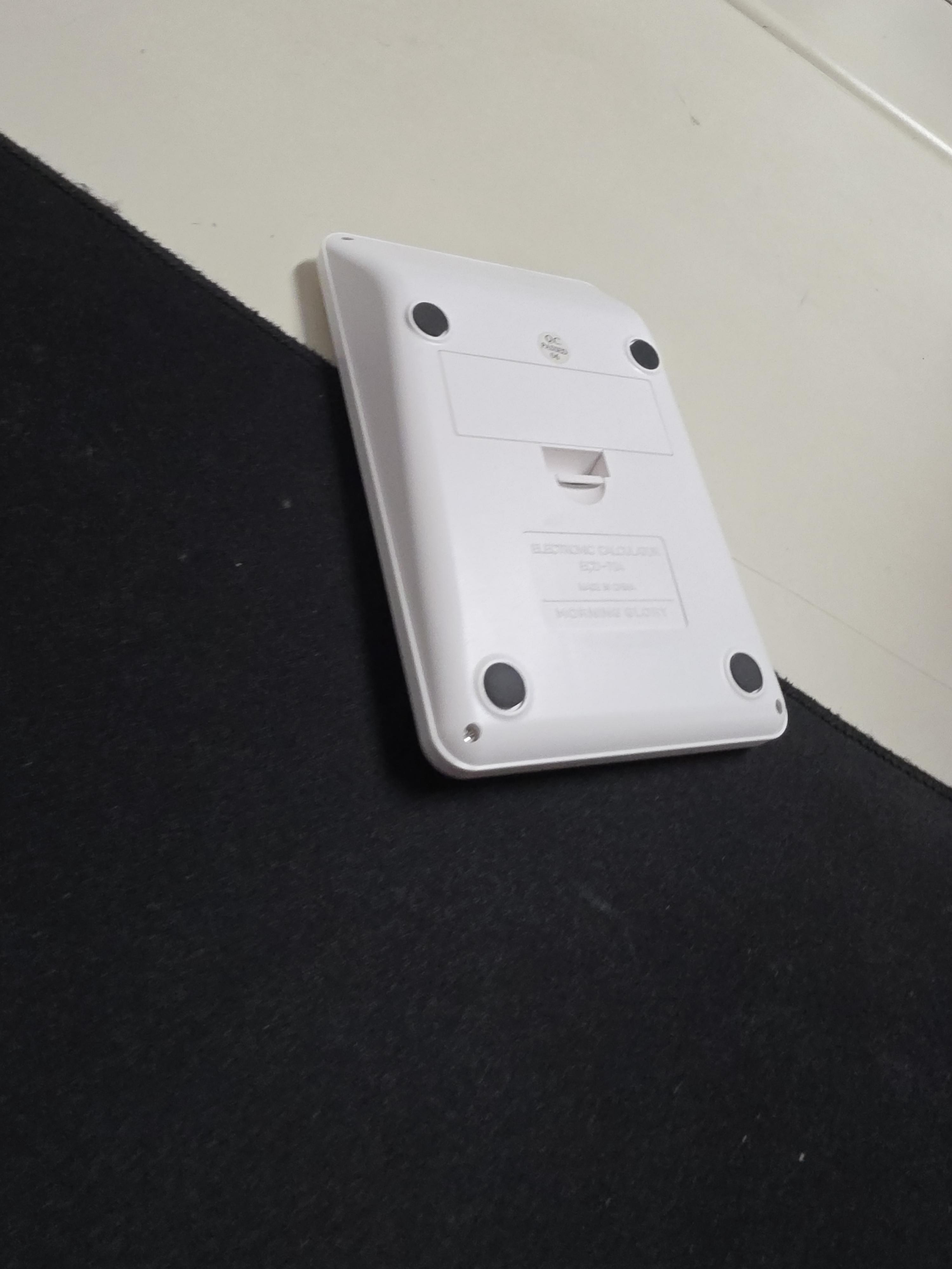calculator: (315, 232, 789, 778)
